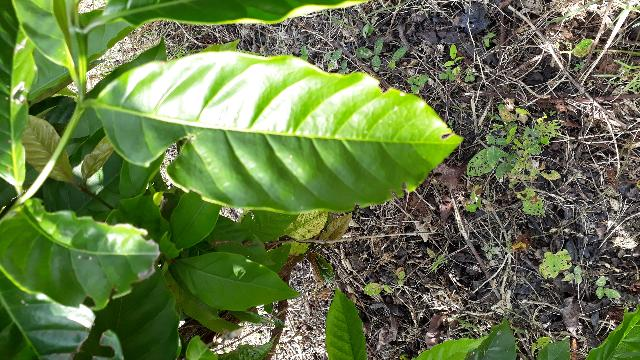healthy: (92, 47, 472, 215)
